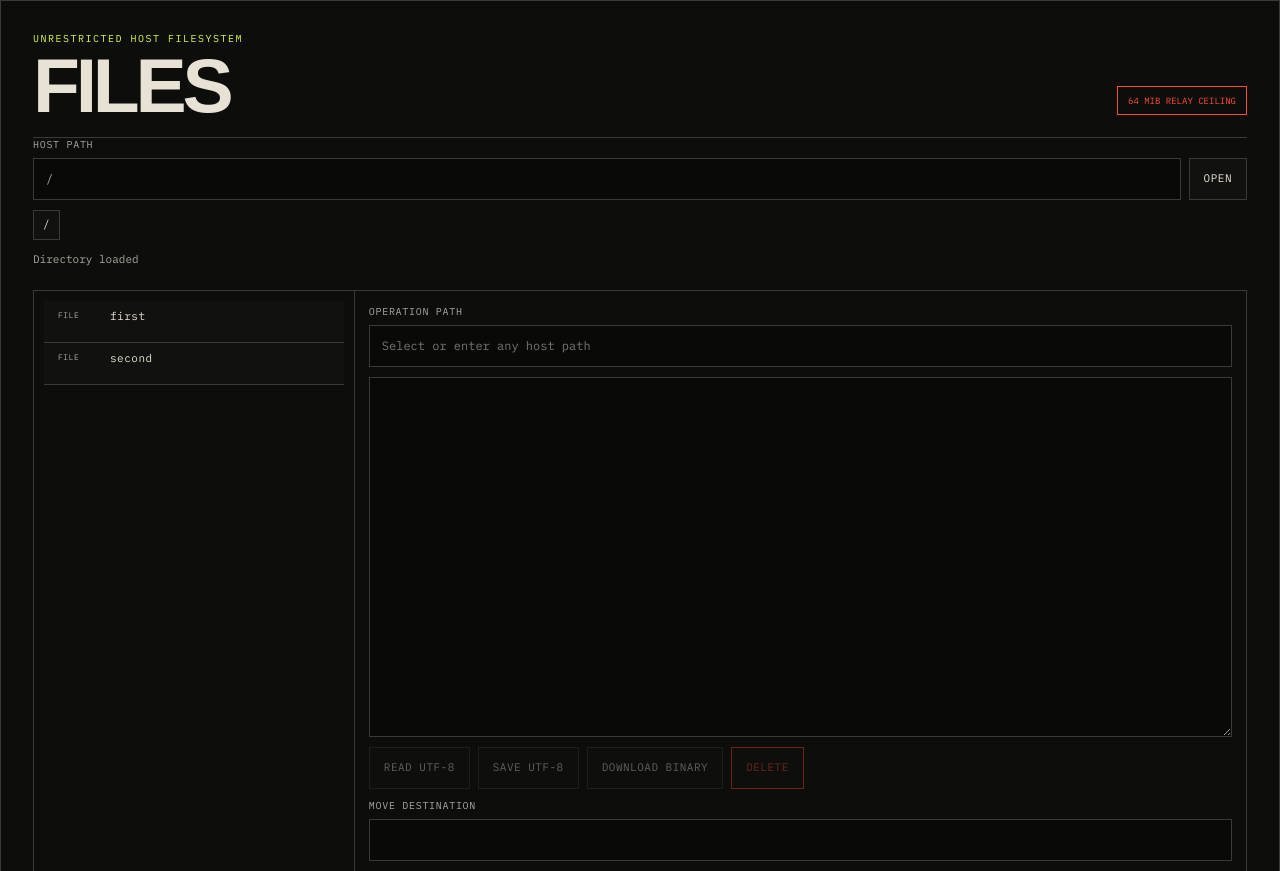
it: panel error and request boundaries › does not replace a newer file selection with an older read response
Click the text "first": (128, 316) [110, 309, 146, 323]
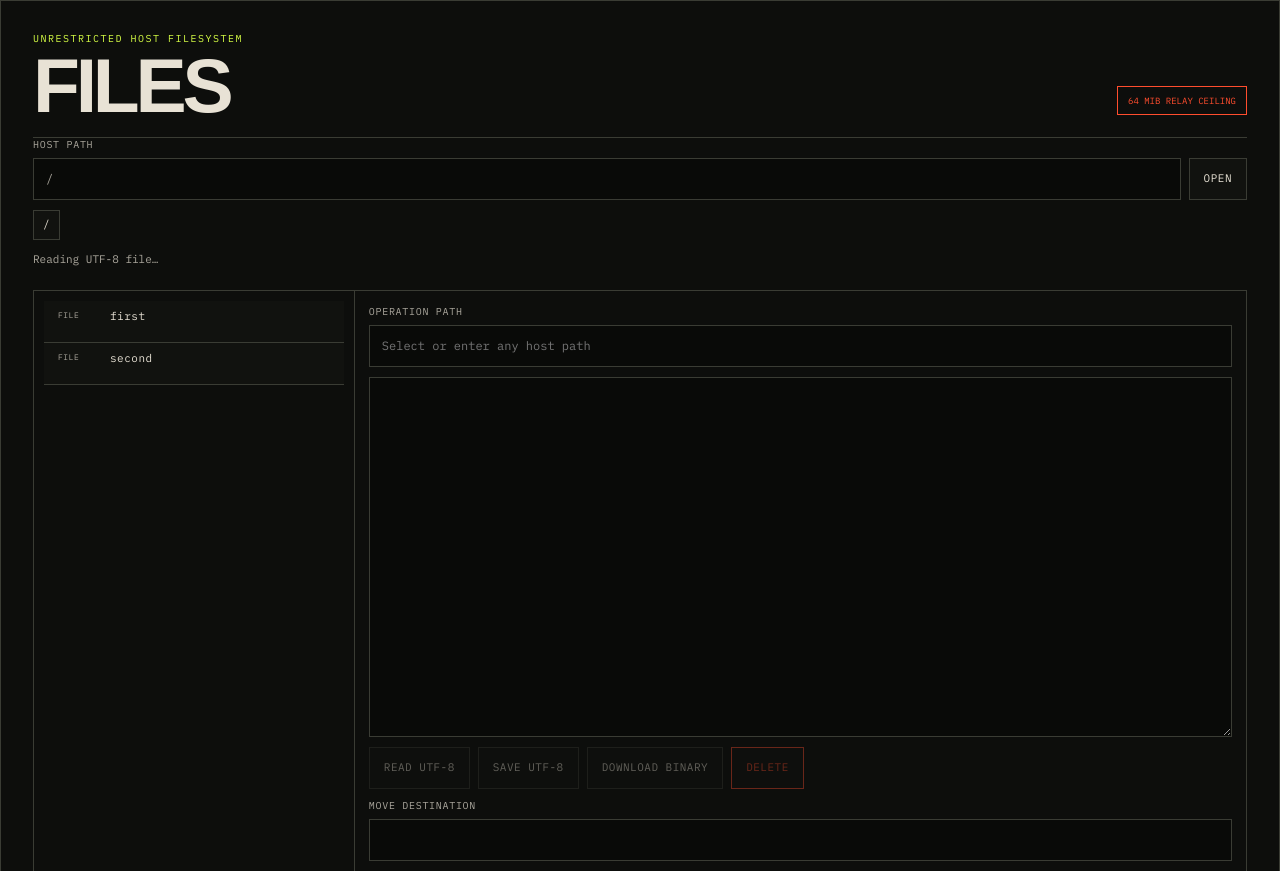
Click the text "second": (131, 358) [110, 351, 153, 365]
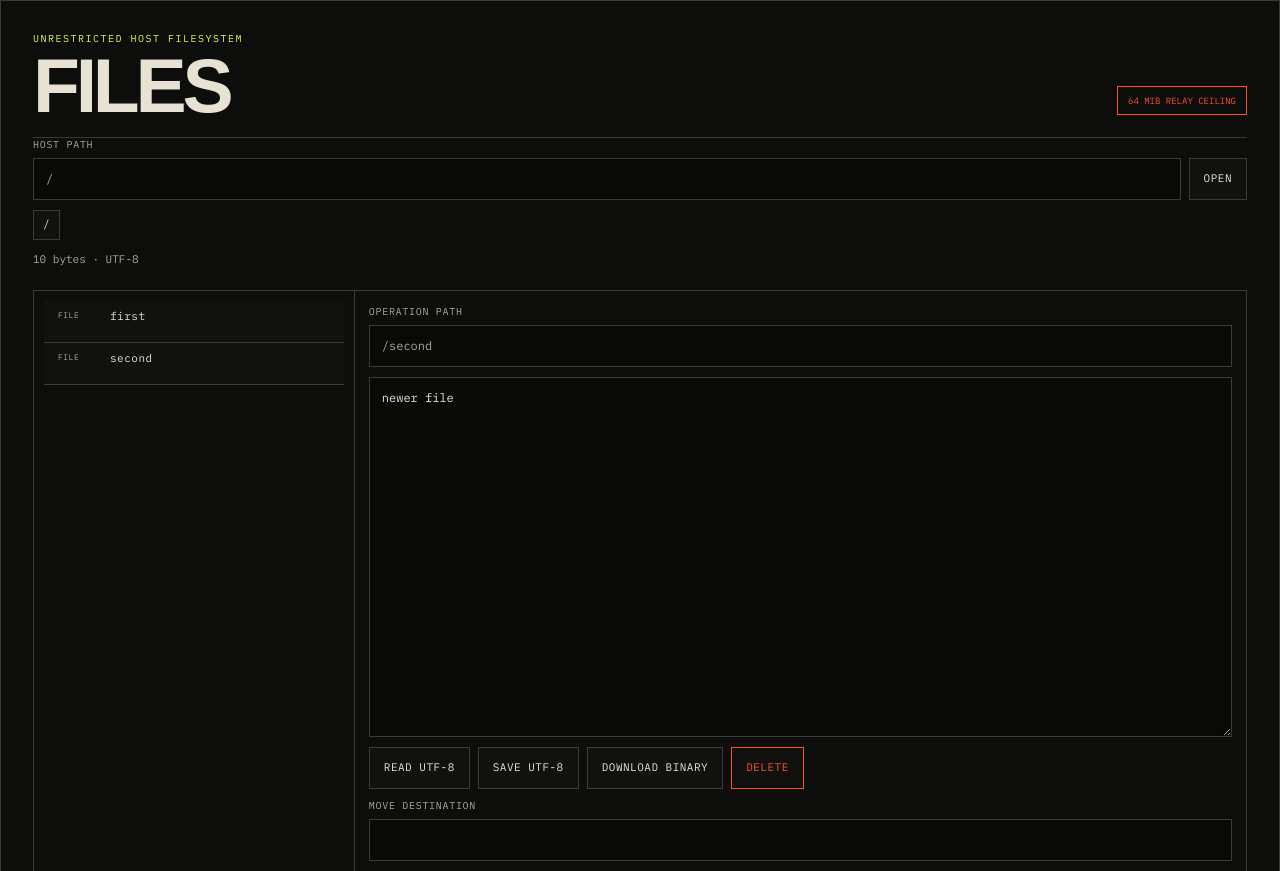
Expected: the field labelled "Operation path" holds "/second", [369, 325, 1232, 367]
Expected: the text box named "File contents" holds "newer file", [369, 377, 1232, 737]
